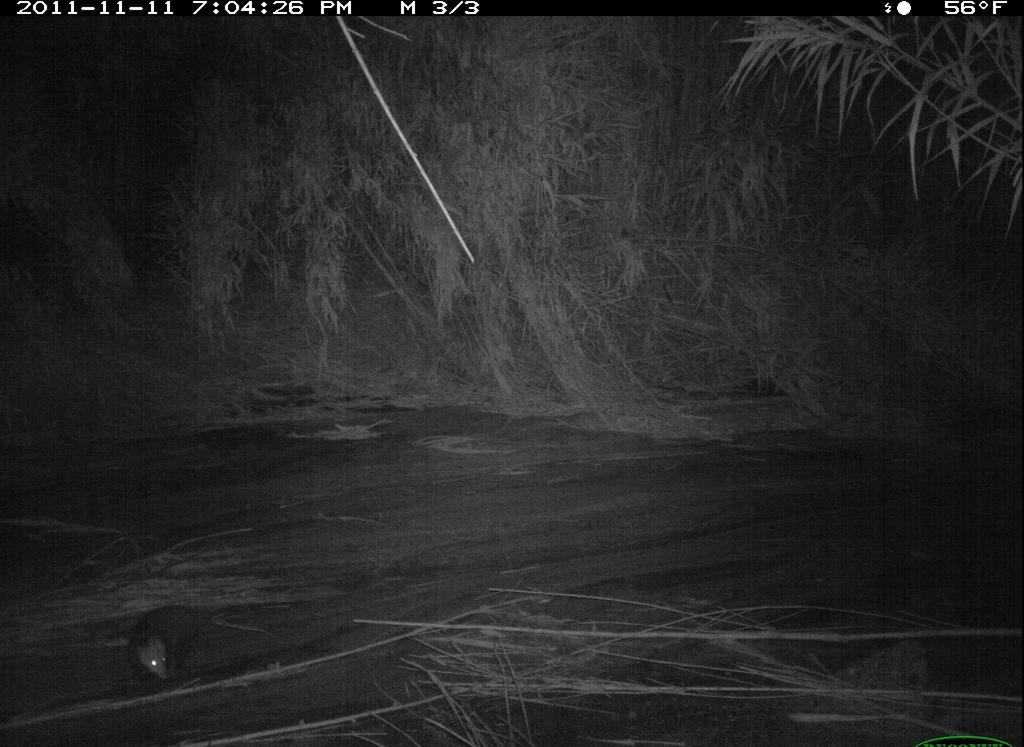opossum: (109, 579, 309, 697)
